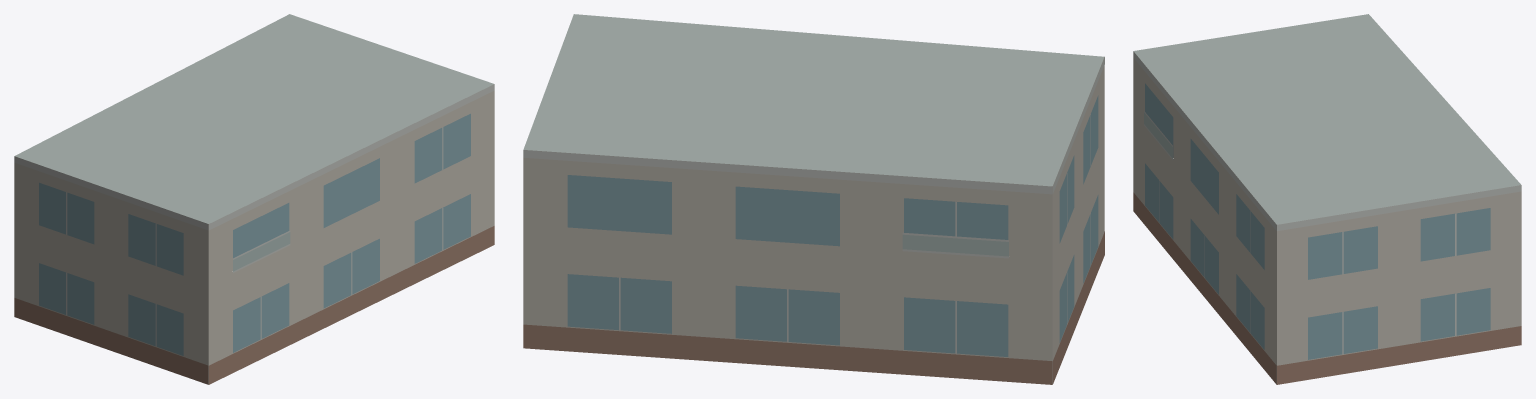
Rendered from survey-upis-32850466.glb.
The picture shows the model from 3 angles, left to right: view 1: azimuth 30°, elevation 25°; view 2: azimuth 150°, elevation 25°; view 3: azimuth 270°, elevation 25°; orthographic projection. The views are drawn at different scales.
Visible parts, largest first — view 1: survey-upis-32850466.tmp; view 2: survey-upis-32850466.tmp; view 3: survey-upis-32850466.tmp.
Part boxes in pixels (x1,y1,x2,y2): survey-upis-32850466.tmp: (14, 14, 494, 384); survey-upis-32850466.tmp: (523, 14, 1104, 384); survey-upis-32850466.tmp: (1133, 14, 1521, 384).
Size of the model in its own units: 17.25 by 6.1 by 13.43.
